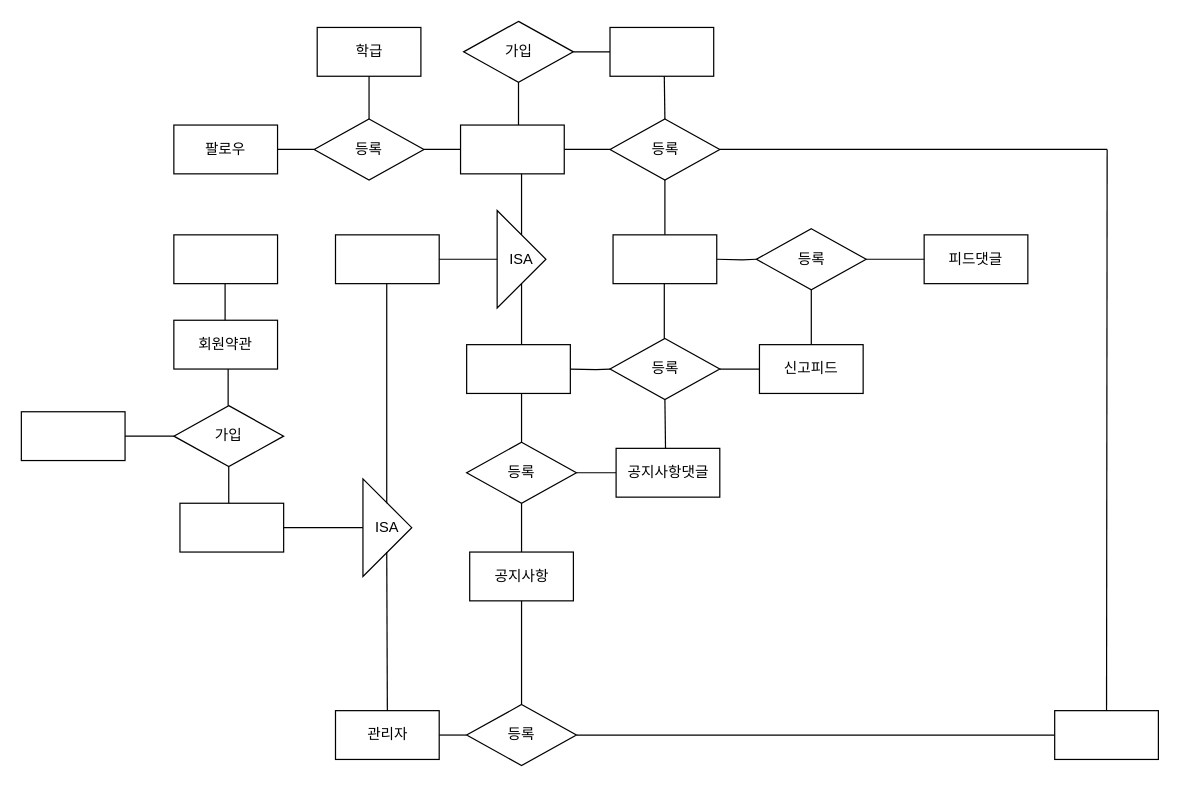
This 1180x787 diagram has some shape labels left out. Here are the shapes that lost their labels. From the top down, the centre of each, then its label:
At point 661,51: "스터디".
At point 511,149: "일반학생".
At point 225,259: "약관동의이력".
At point 386,259: "학생".
At point 664,259: "피드".
At point 517,368: "반장".
At point 72,436: "이메일인증".
At point 231,527: "회원".
At point 1105,734: "알림".
